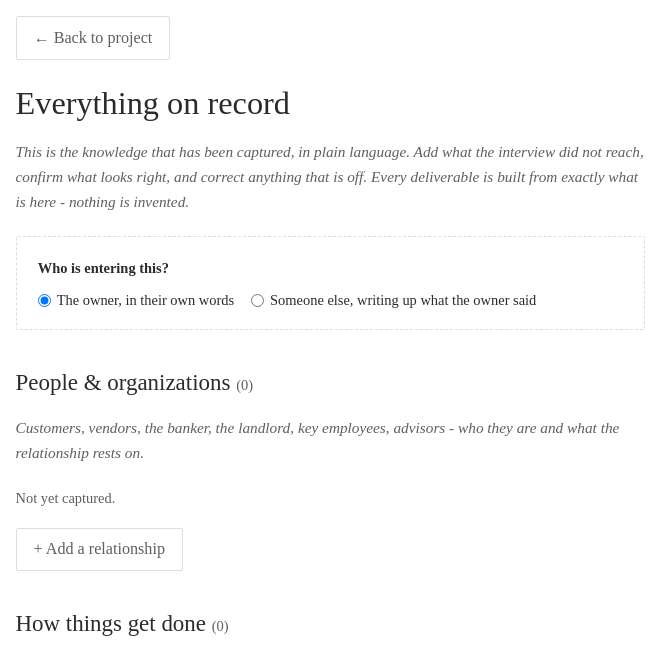
KnowledgeScreen: operator workbench › seeds the name from the project when flipping to operator mode
What coordinates should you click on to do the following:
click the radio button labelled "Someone else, writing up what the owner said"
I would click on:
 (258, 300)
Its box is [251,294,264,307].
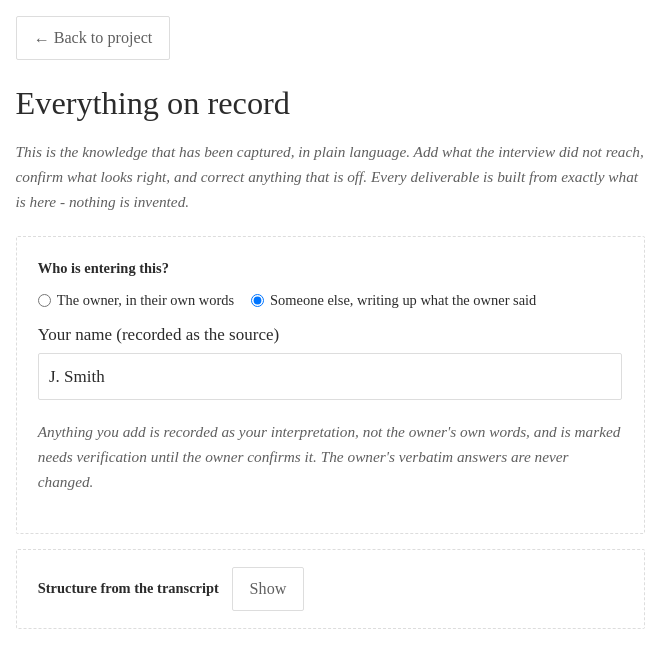
Now the field labelled "Your name (recorded as the source)" holds "J. Smith", box [38,353,622,400]
